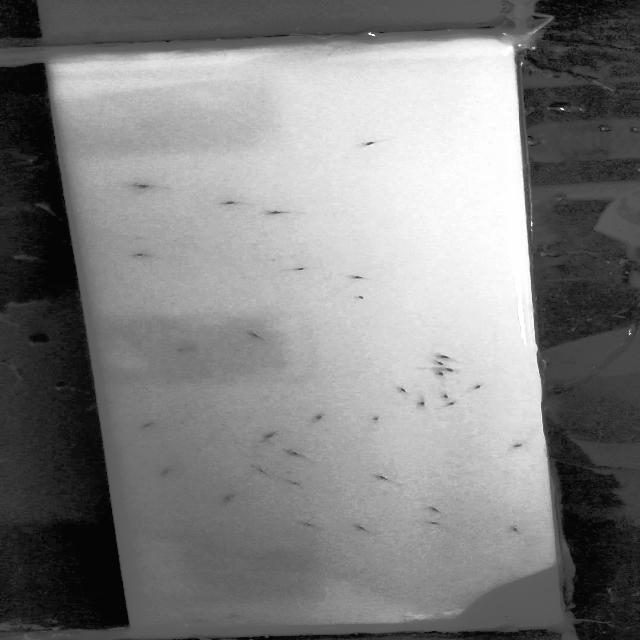shrimp: (363, 405, 395, 427), (243, 328, 276, 346), (282, 446, 318, 462), (124, 182, 172, 194), (359, 137, 397, 152), (300, 413, 341, 426), (351, 520, 377, 538), (292, 517, 327, 530), (280, 264, 316, 276), (379, 386, 419, 396), (468, 383, 498, 396), (123, 250, 162, 260), (248, 430, 279, 442), (212, 198, 248, 208), (137, 418, 160, 433), (500, 440, 530, 451), (427, 501, 452, 514), (439, 401, 465, 413), (366, 474, 394, 485), (424, 518, 447, 531), (431, 354, 467, 362), (253, 466, 275, 478), (430, 368, 454, 379), (284, 477, 307, 488), (346, 273, 374, 282), (215, 492, 240, 502), (506, 525, 528, 536), (157, 467, 177, 479), (494, 609, 513, 621), (349, 293, 371, 303), (426, 359, 450, 368), (264, 210, 318, 214), (435, 391, 458, 400), (228, 610, 248, 620), (416, 398, 430, 410), (188, 620, 212, 626), (445, 368, 463, 376)
